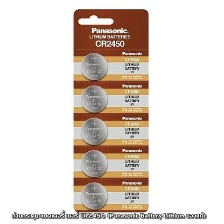battery: (78, 82, 111, 116), (77, 147, 110, 179), (78, 180, 110, 212), (78, 51, 110, 82), (79, 117, 110, 147)
book: (69, 6, 152, 215)
